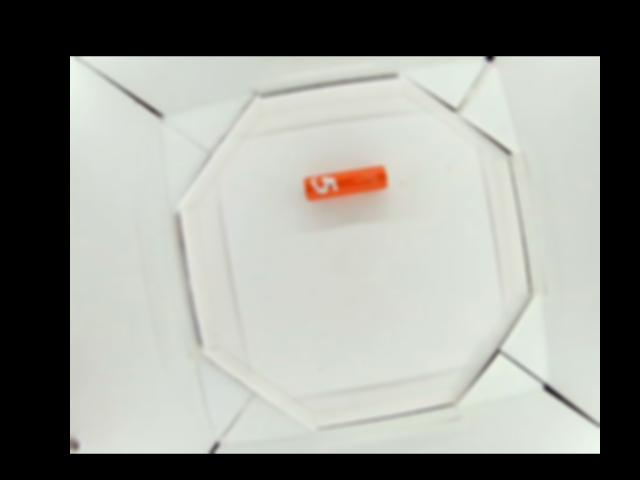Battery: (305, 166, 389, 196)
